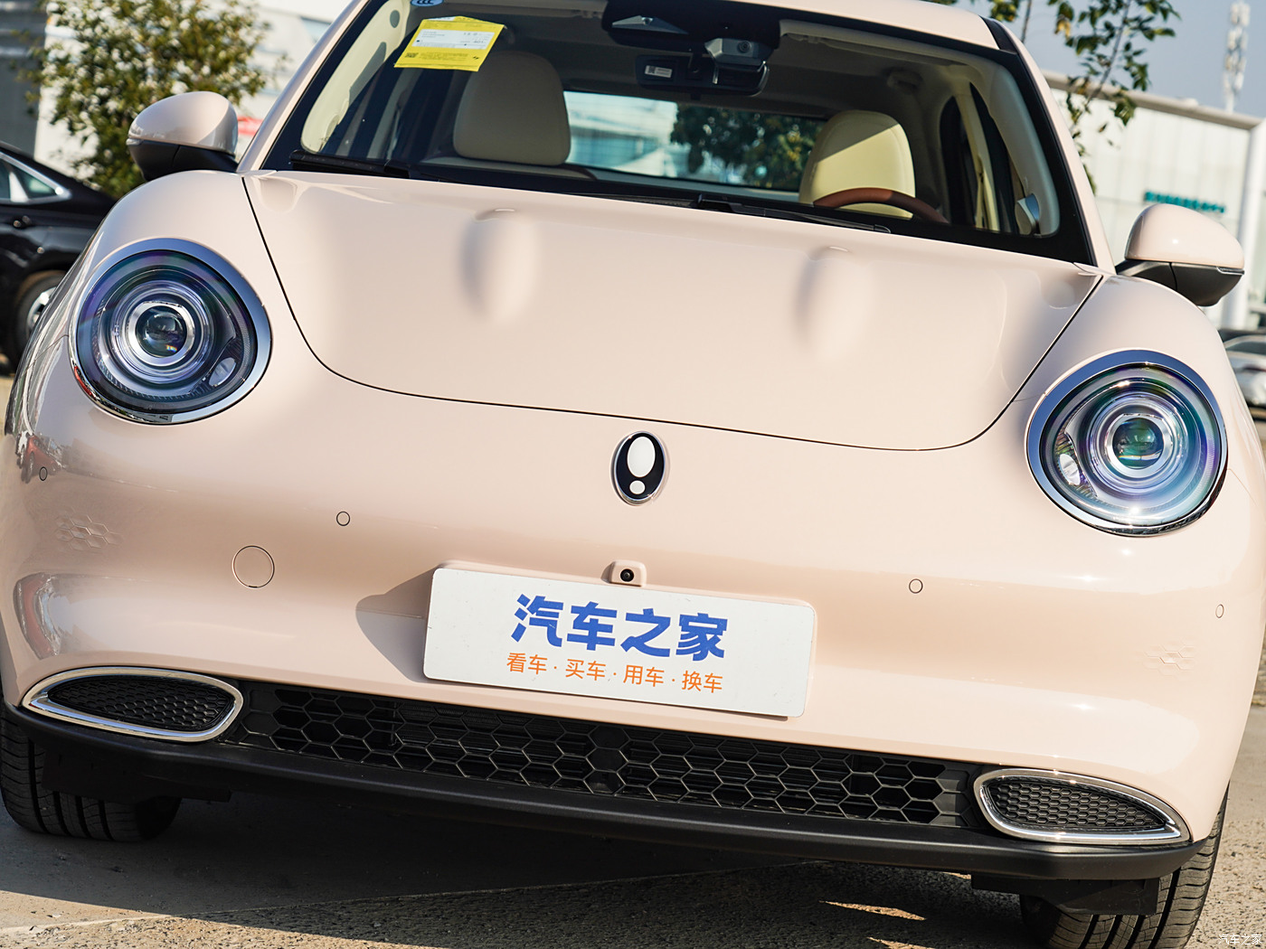ORA: (614, 432, 666, 504)
